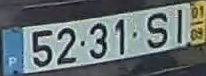1: (114, 18, 125, 56)
2: (55, 25, 78, 66)
3: (87, 21, 108, 60)
5: (29, 28, 53, 68)
I: (176, 8, 184, 45)
S: (145, 11, 169, 49)
